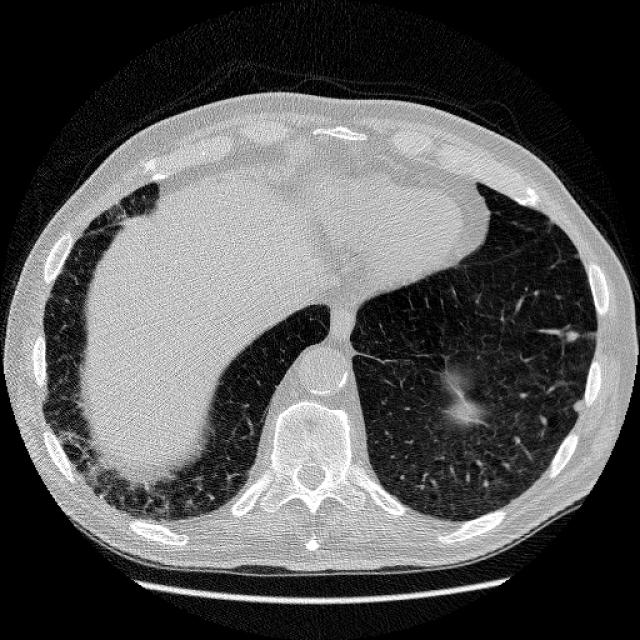nodule: (565, 394, 587, 416)
